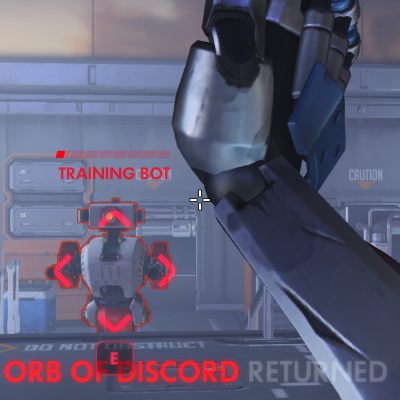hpbar: (55, 150, 171, 159)
